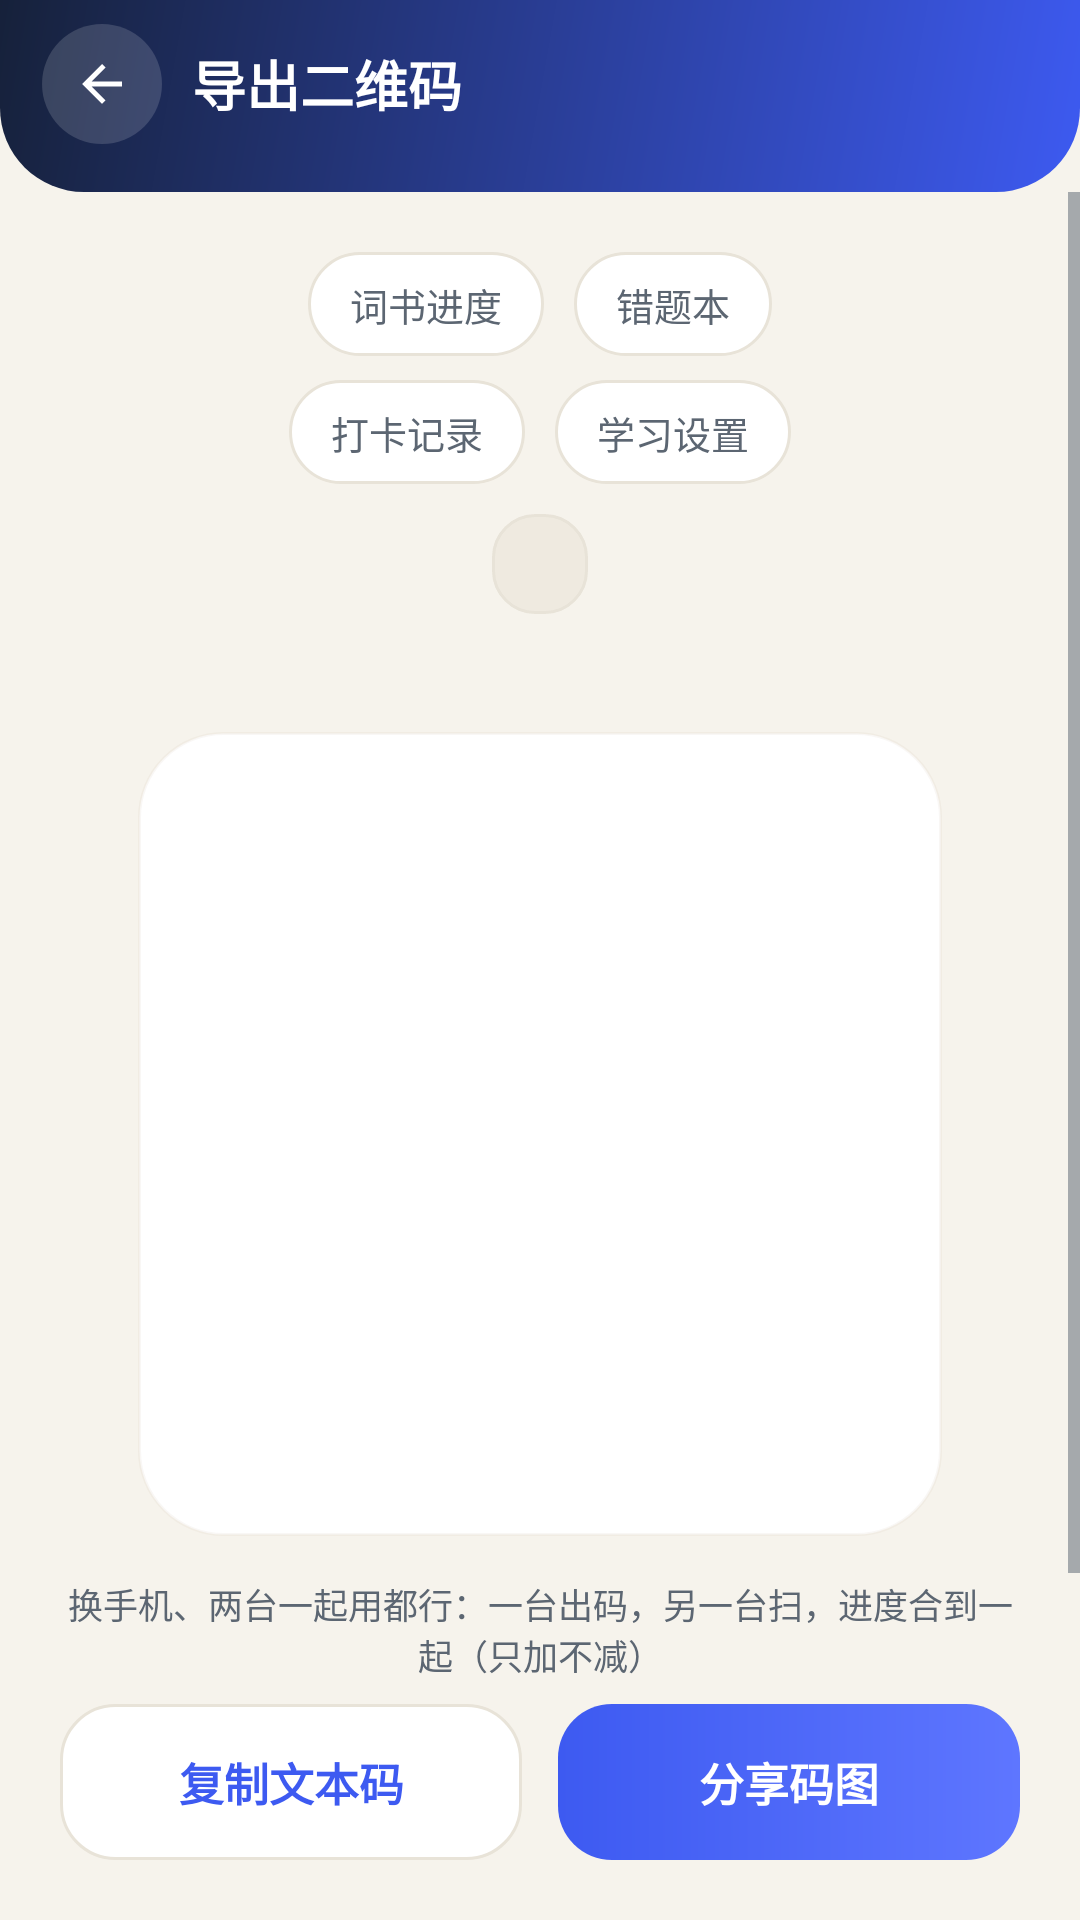

Icon bounding boxes for this 1080x1920 phone screenshot, format (x1, y1, x2, y2):
back: (42, 24, 162, 144)
